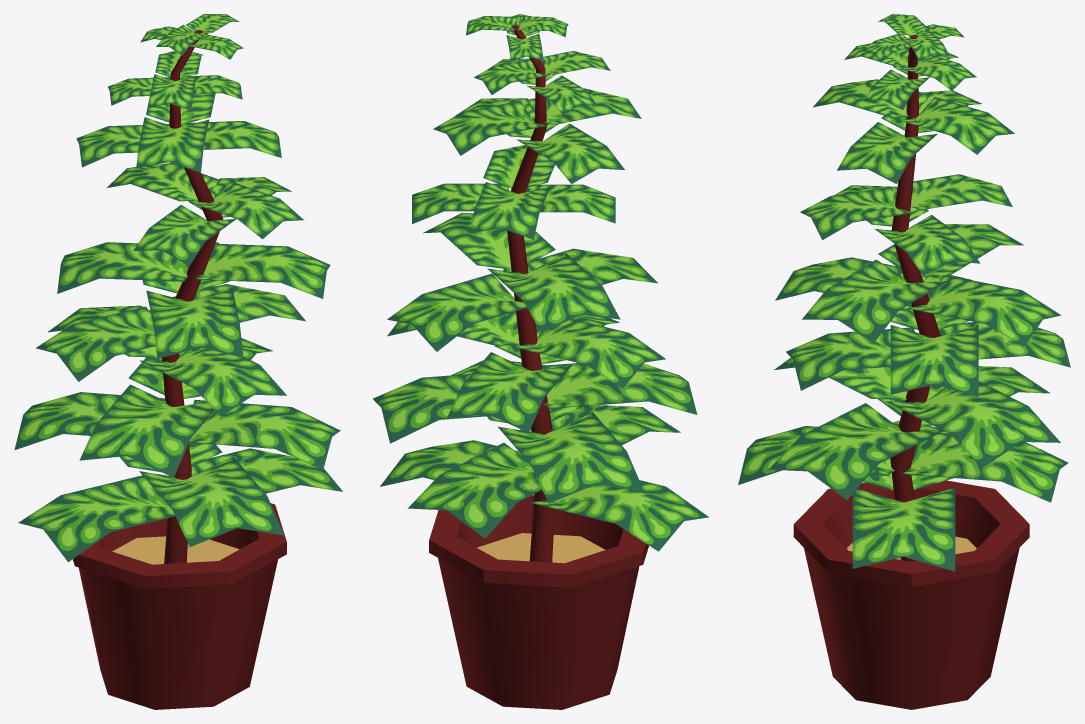
Rendered from Plante.FBX.
3 renders of one model, left to right at view 1: azimuth 30°, elevation 25°; view 2: azimuth 150°, elevation 25°; view 3: azimuth 270°, elevation 25°, orthographic. The views are drawn at different scales.
Visible parts, largest first — view 1: Plante; view 2: Plante; view 3: Plante.
Part boxes in pixels (<box>): Plante: <box>14,14,342,709</box>; Plante: <box>373,14,708,709</box>; Plante: <box>738,14,1070,709</box>.
Size of the model in its own units: 0.9349 by 2.09 by 0.9579.
